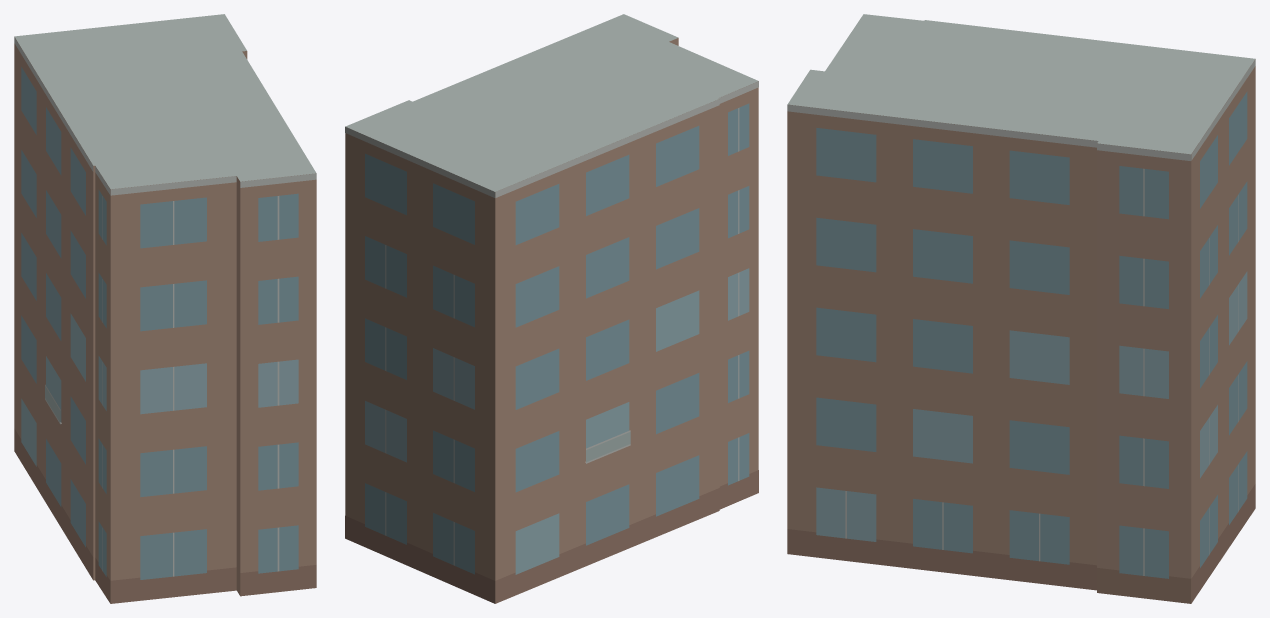
The model's file is survey-upis-32869018.glb.
3 renders of one model, left to right at view 1: azimuth 30°, elevation 25°; view 2: azimuth 150°, elevation 25°; view 3: azimuth 270°, elevation 25°, orthographic. The views are drawn at different scales.
Visible parts, largest first — view 1: survey-upis-32869018.tmp; view 2: survey-upis-32869018.tmp; view 3: survey-upis-32869018.tmp.
Boxes of the visible parts, box(x1,y1,x2,y2) form: survey-upis-32869018.tmp: box(14, 14, 316, 603); survey-upis-32869018.tmp: box(345, 14, 758, 603); survey-upis-32869018.tmp: box(787, 14, 1255, 603).
Bounding box in the file's own units: 10.67 × 15.93 × 15.05.
